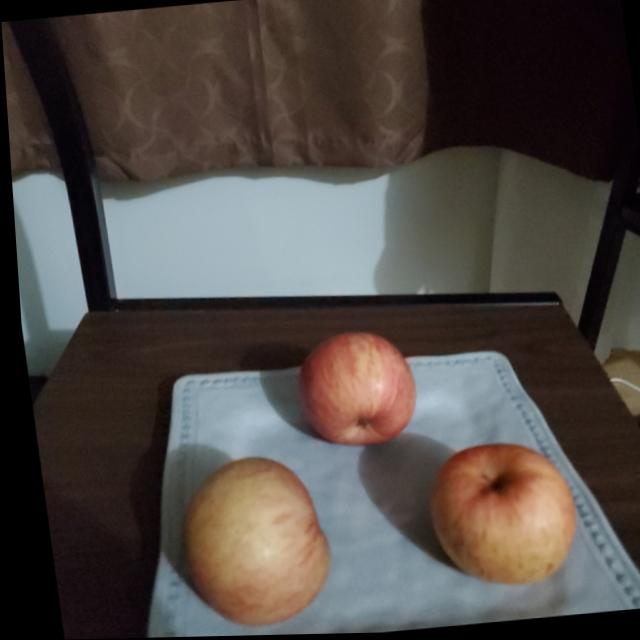apple: (163, 453, 331, 629), (415, 436, 578, 590), (286, 329, 416, 452)
